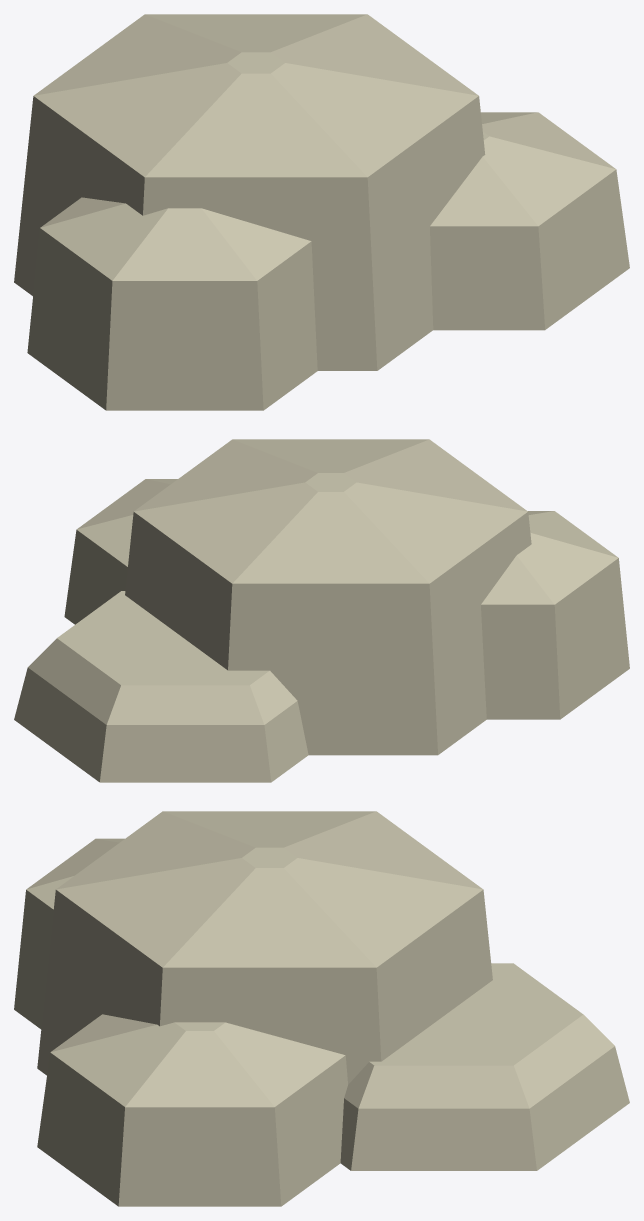
File: crystal.glb
3 renders of one model, top to bottom at view 1: azimuth 30°, elevation 25°; view 2: azimuth 150°, elevation 25°; view 3: azimuth 270°, elevation 25°, orthographic. The views are drawn at different scales.
Visible parts, largest first — view 1: fractured tip, quartz, quartz.002, quartz.001, fractured tip.002, fractured tip.001; view 2: quartz, fractured tip, fractured tip.003, quartz.003, quartz.002, fractured tip.002, quartz.001, fractured tip.001; view 3: fractured tip, quartz, quartz.001, fractured tip.003, fractured tip.001, quartz.003, quartz.002, fractured tip.002.
Boxes of the visible parts, left/top/right/bottom form: fractured tip: left=33, top=14, right=478, bottom=177; quartz: left=14, top=96, right=485, bottom=370; quartz.002: left=27, top=228, right=317, bottom=410; quartz.001: left=430, top=169, right=629, bottom=330; fractured tip.002: left=40, top=197, right=311, bottom=280; fractured tip.001: left=430, top=112, right=616, bottom=226; quartz: left=125, top=512, right=531, bottom=755; fractured tip: left=134, top=439, right=527, bottom=583; fractured tip.003: left=28, top=591, right=297, bottom=724; quartz.003: left=14, top=667, right=308, bottom=782; quartz.002: left=481, top=558, right=629, bottom=719; fractured tip.002: left=481, top=511, right=618, bottom=604; quartz.001: left=64, top=529, right=127, bottom=624; fractured tip.001: left=77, top=479, right=177, bottom=566; fractured tip: left=56, top=811, right=483, bottom=967; quartz: left=37, top=889, right=492, bottom=1084; quartz.001: left=37, top=1052, right=347, bottom=1206; fractured tip.003: left=344, top=963, right=614, bottom=1108; fractured tip.001: left=50, top=1014, right=345, bottom=1107; quartz.003: left=340, top=1046, right=629, bottom=1170; quartz.002: left=14, top=890, right=53, bottom=1029; fractured tip.002: left=26, top=838, right=124, bottom=909.
Size of the model in its own units: 2.57 by 1 by 2.65.
